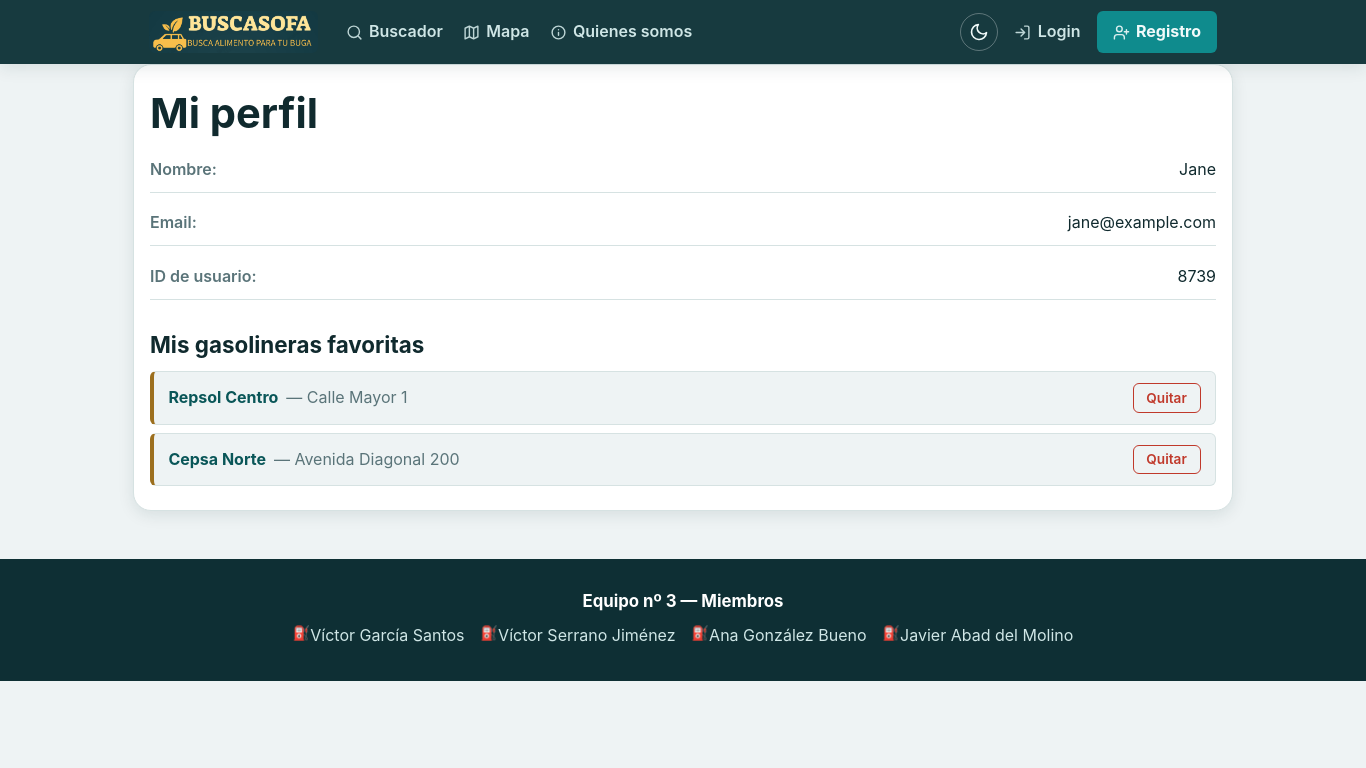
Scenario: Gasolineras favoritas en el perfil › permite quitar una gasolinera de favoritos
This screenshot has width=1366, height=768.
Click the button with test id "remove-favorite-1234".
click(1167, 398)  # box [1133,383,1201,412]
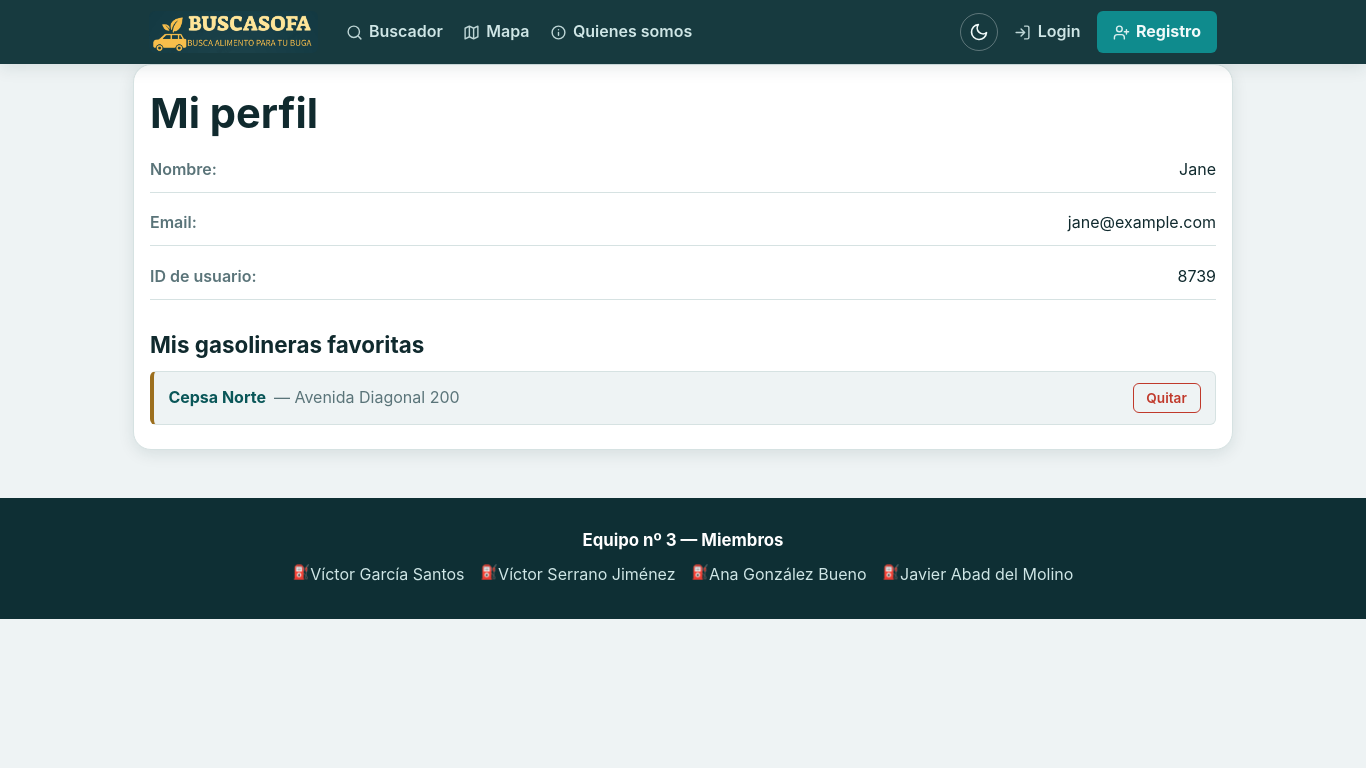
Expected: the text "Repsol Centro" is gone
